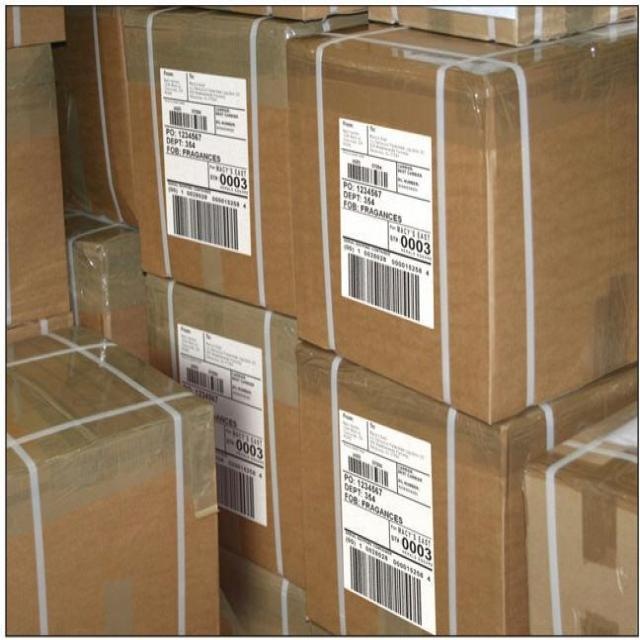box: (288, 21, 640, 413), (290, 329, 616, 640), (116, 0, 365, 323), (0, 320, 229, 639), (146, 268, 328, 596)
